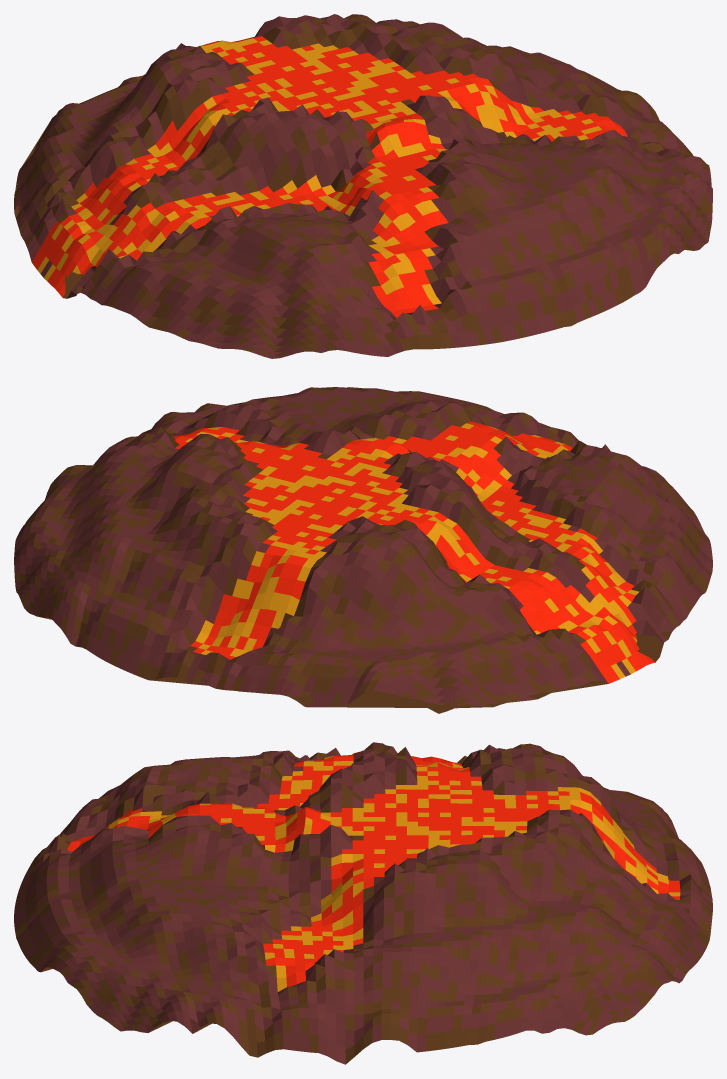
File: mini.fbx
The picture shows the model from 3 angles, top to bottom: view 1: azimuth 30°, elevation 25°; view 2: azimuth 150°, elevation 25°; view 3: azimuth 270°, elevation 25°; orthographic projection. The views are drawn at different scales.
Parts seen in each view (by area): view 1: Plane; view 2: Plane; view 3: Plane.
Boxes of the visible parts, left/top/right/bottom form: Plane: left=14, top=14, right=712, bottom=358; Plane: left=14, top=387, right=712, bottom=713; Plane: left=14, top=742, right=712, bottom=1064.
Bounding box in the file's own units: 1282 × 278 × 1282.
